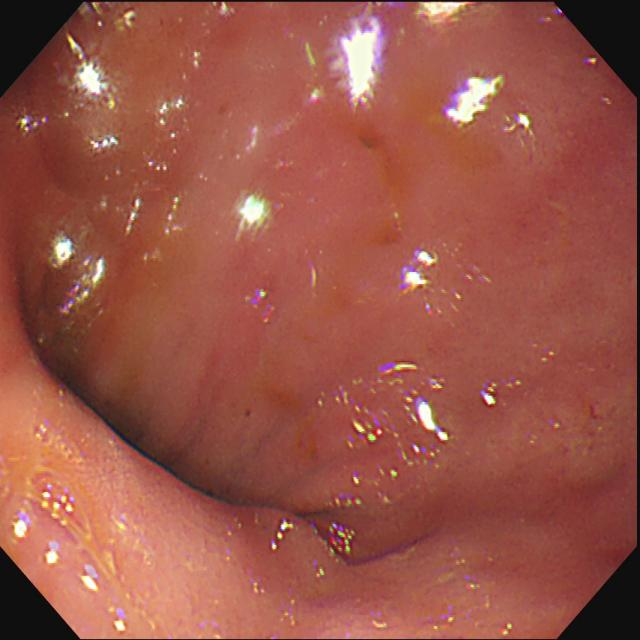E: (44, 364, 224, 495)
U: (332, 357, 454, 468), (333, 2, 391, 113), (46, 234, 106, 316), (60, 29, 120, 111), (444, 74, 508, 127), (228, 191, 279, 236), (403, 246, 442, 293), (79, 3, 140, 32), (416, 3, 483, 25), (81, 129, 124, 155), (11, 109, 52, 136), (156, 94, 189, 126), (504, 111, 539, 140), (328, 521, 357, 555), (120, 195, 144, 236), (162, 196, 186, 236), (272, 517, 296, 551), (9, 512, 35, 540), (107, 605, 131, 635), (76, 564, 101, 592), (482, 378, 503, 409), (207, 2, 243, 20), (42, 538, 65, 566)
